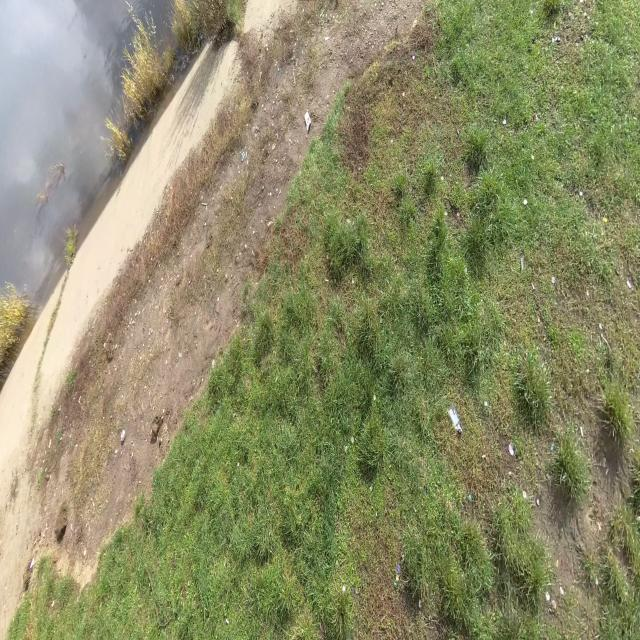rubbish: (446, 401, 464, 436), (304, 109, 313, 133)
